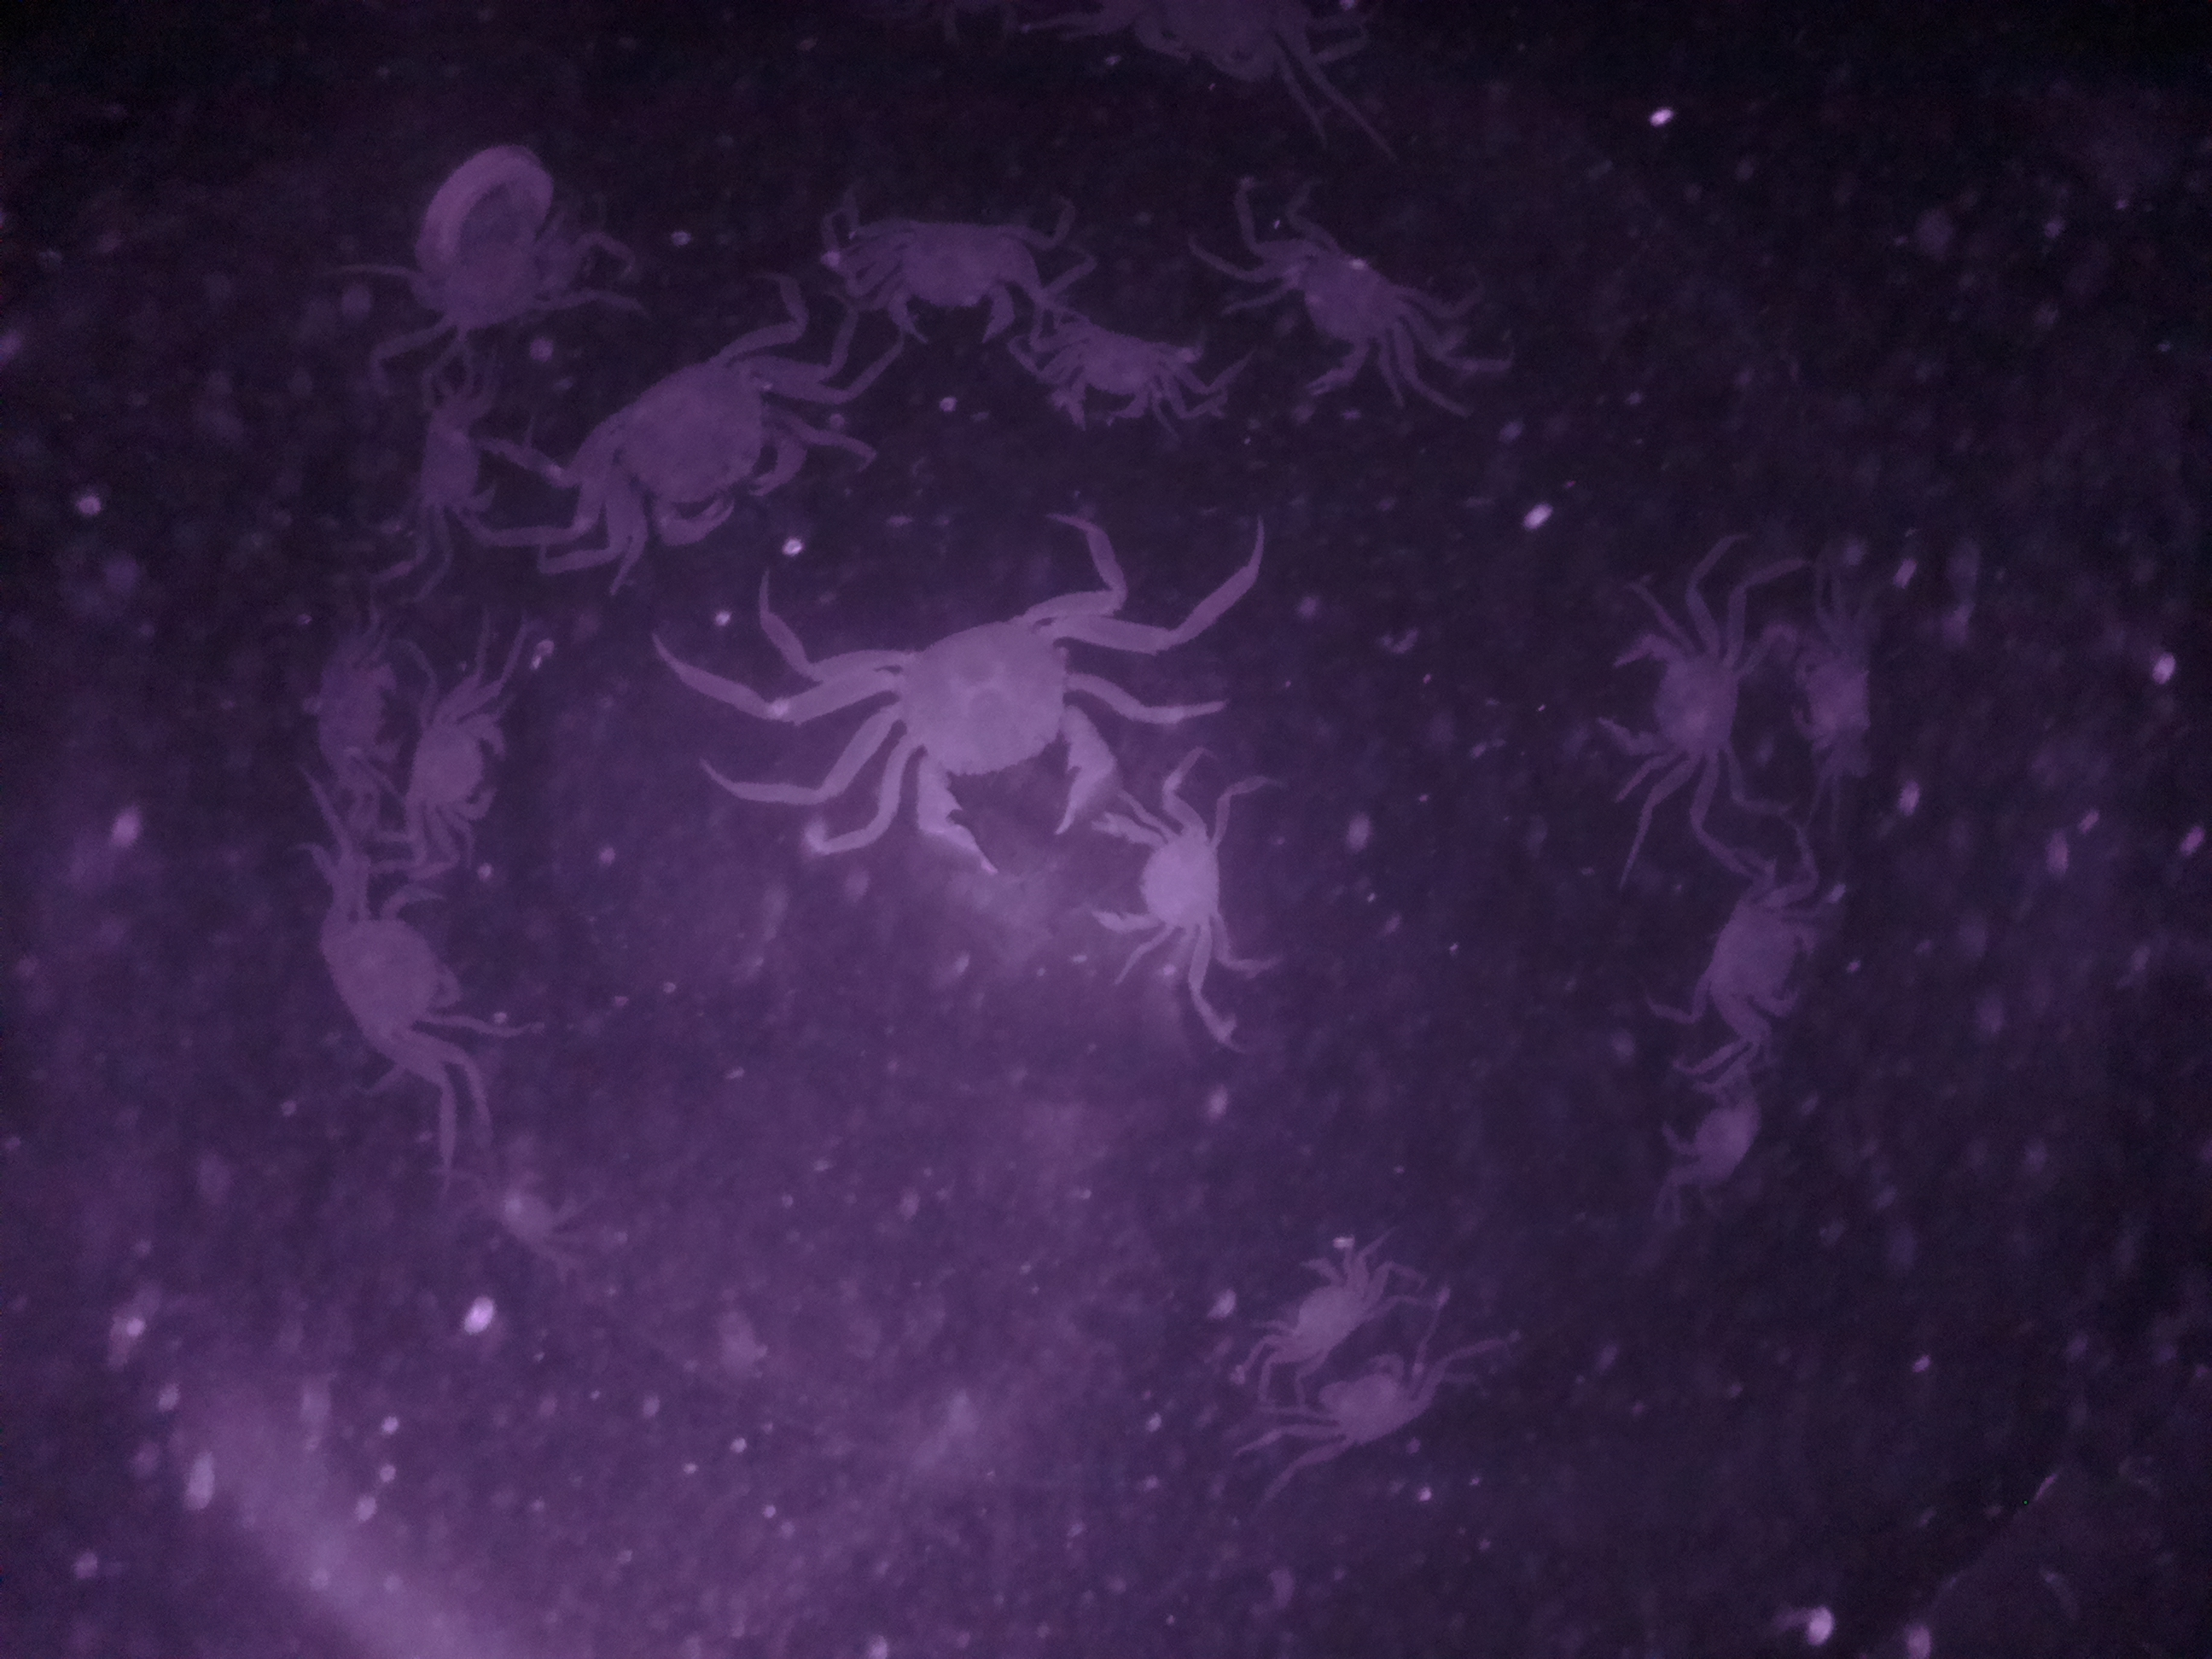Crab: (848, 592, 1129, 871), (564, 329, 824, 556), (308, 864, 482, 1093), (1238, 218, 1433, 403), (1068, 788, 1247, 972), (1576, 608, 1761, 786), (1676, 871, 1838, 1053), (834, 216, 1038, 349), (1282, 1331, 1458, 1455), (395, 685, 528, 842), (1005, 324, 1202, 425), (395, 375, 510, 540), (1244, 1243, 1383, 1373)
